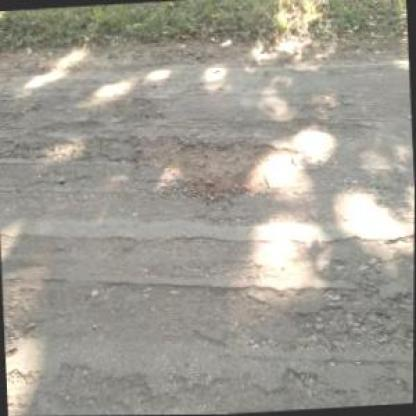pothole: (121, 128, 302, 206)
